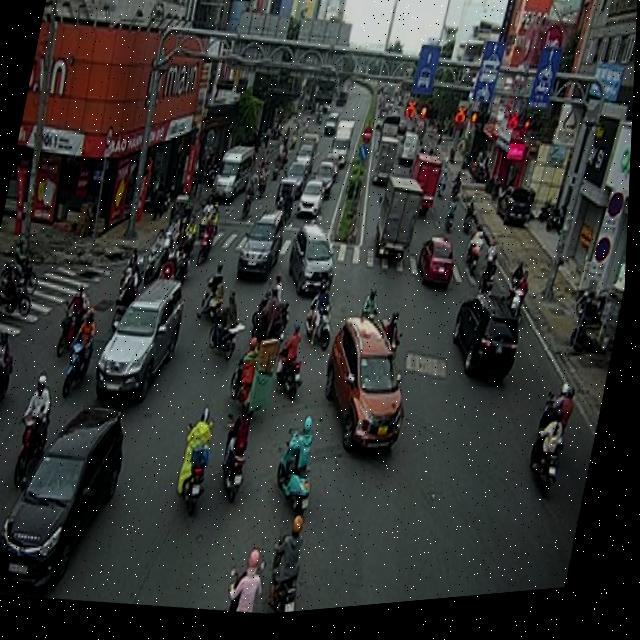Red: (419, 110, 442, 133), (524, 126, 547, 146), (472, 119, 492, 138)
